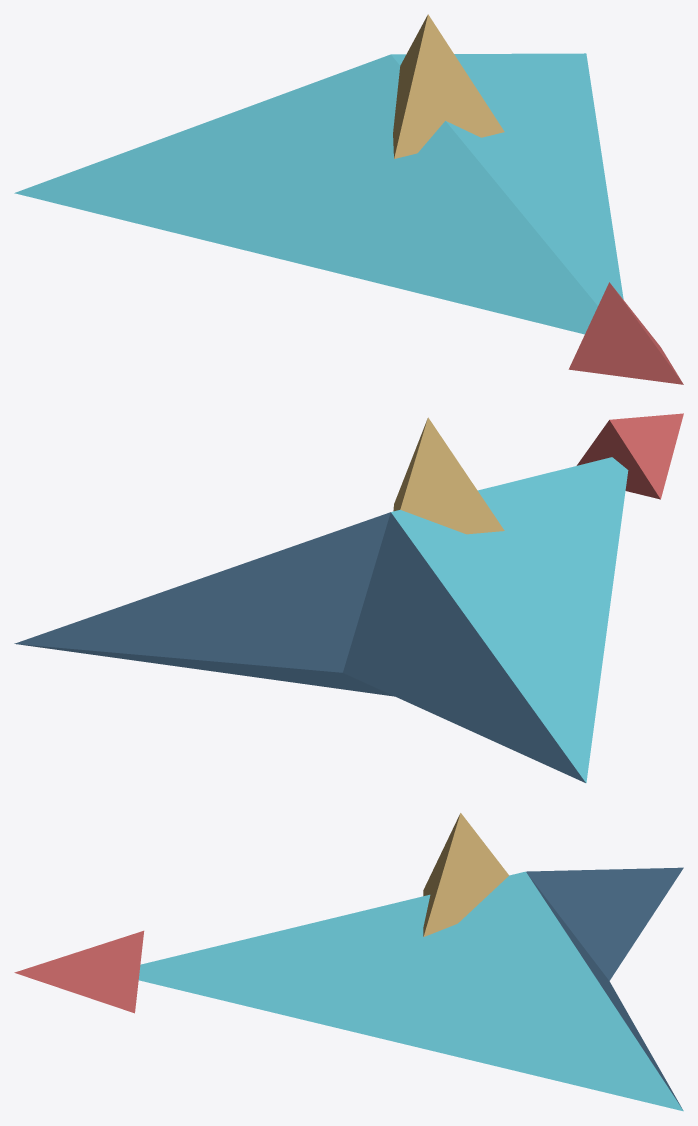
The model's file is ship.glb.
The picture shows the model from 3 angles, top to bottom: view 1: azimuth 30°, elevation 25°; view 2: azimuth 150°, elevation 25°; view 3: azimuth 270°, elevation 25°; orthographic projection. The views are drawn at different scales.
Parts seen in each view (by area): view 1: Ship; view 2: Ship; view 3: Ship.
Boxes of the visible parts, left/top/right/bottom form: Ship: left=14, top=14, right=683, bottom=384; Ship: left=14, top=413, right=683, bottom=782; Ship: left=14, top=813, right=683, bottom=1111.
Size of the model in its own units: 1.24 by 0.54 by 1.44.
